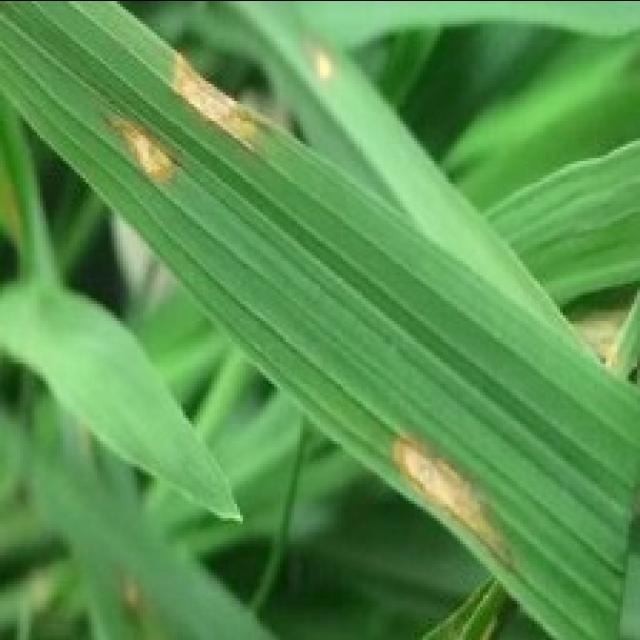Unhealthy: (391, 431, 513, 571), (174, 47, 269, 139), (103, 118, 176, 179), (305, 31, 340, 82)
